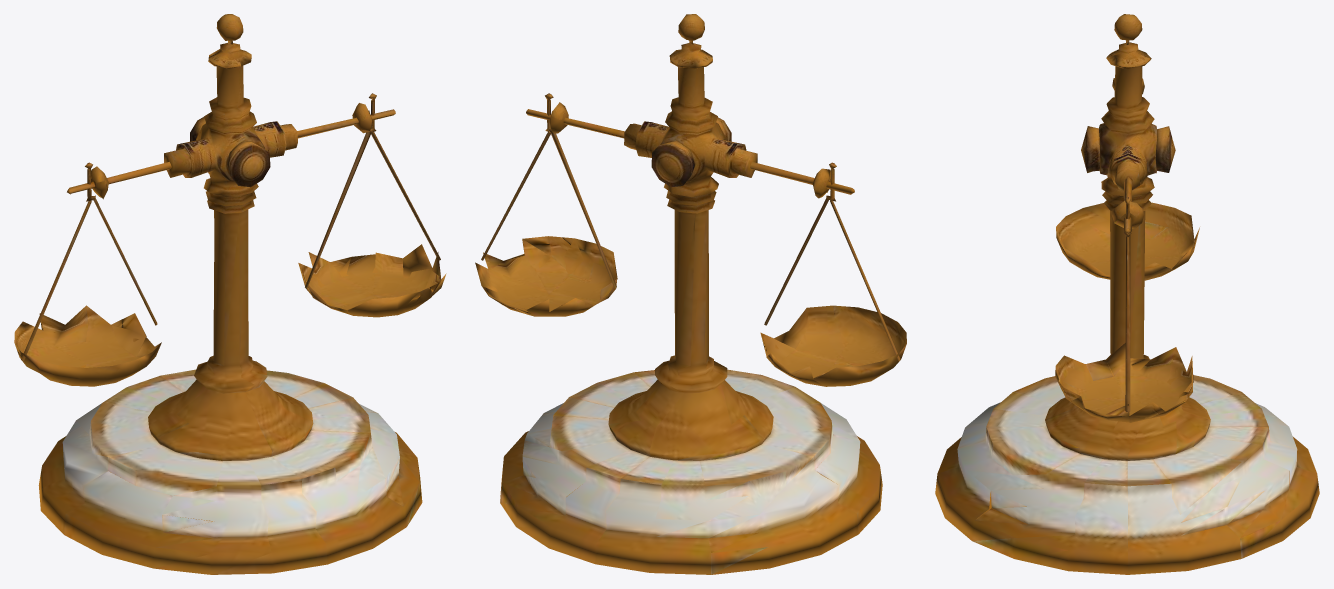
File: keepsake-scales.glb
3 views of the same model, side by side, from view 1: azimuth 30°, elevation 25°; view 2: azimuth 150°, elevation 25°; view 3: azimuth 270°, elevation 25° (orthographic).
Visible parts, largest first — view 1: keepsake-scales; view 2: keepsake-scales; view 3: keepsake-scales.
Boxes of the visible parts, <box> form: keepsake-scales: <box>14,14,446,574</box>; keepsake-scales: <box>475,14,906,574</box>; keepsake-scales: <box>935,14,1319,574</box>.
Bounding box in the file's own units: 0.5482 × 0.6 × 0.4371.
Materials: 1 (1 with a texture image).
